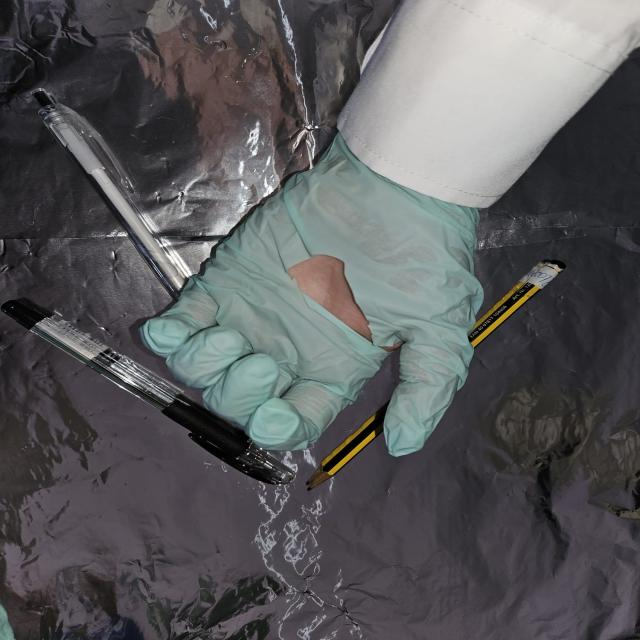gloves_damaged: (139, 140, 486, 458)
